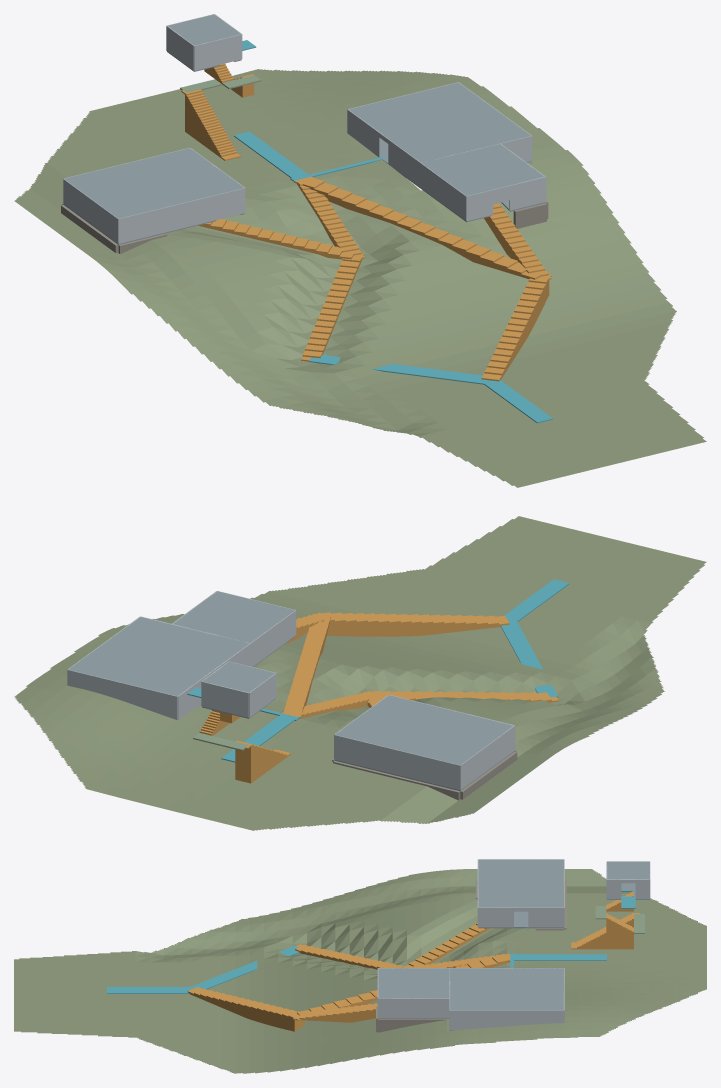
Rendered from benched-terrain.glb.
3 views of the same model, one above another, from view 1: azimuth 30°, elevation 25°; view 2: azimuth 150°, elevation 25°; view 3: azimuth 270°, elevation 25° (orthographic). The views are drawn at different scales.
Visible parts, largest first — view 1: Saved editor stair bench terrain WLD-04, Ceiling cap ruin, Ceiling cap hut, Ceiling cap store, Wall hut S, Opened stair shell Wall store S, Wall hut W, Ceiling cap cab, L02 support 0, Wall cab S, Wall store W, Wall ruin W (+2 smaller); view 2: Saved editor stair bench terrain WLD-04, Ceiling cap ruin, Ceiling cap hut, Ceiling cap store, Wall hut N, Wall ruin N, Wall hut W, Ceiling cap cab, Wall cab N, Wall store W, L02 support 0, Wall cab W (+3 smaller); view 3: Saved editor stair bench terrain WLD-04, Ceiling cap ruin, Ceiling cap hut, Ceiling cap store, Wall ruin E, Wall store E, Ceiling cap cab, Wall hut E, Wall hut E.001, L02 support 0.
Part boxes in pixels (box(x1,y1,x2,y2)): Saved editor stair bench terrain WLD-04: box(14, 69, 706, 487); Ceiling cap ruin: box(348, 82, 530, 162); Ceiling cap hut: box(64, 148, 243, 218); Ceiling cap store: box(421, 144, 544, 195); Wall hut S: box(118, 188, 245, 243); Opened stair shell Wall store S: box(466, 177, 545, 220); Wall hut W: box(63, 179, 118, 243); Ceiling cap cab: box(168, 14, 241, 45); L02 support 0: box(308, 354, 489, 384); Wall cab S: box(194, 34, 241, 70); Wall store W: box(420, 163, 466, 220); Wall ruin W: box(347, 109, 380, 157); Saved editor stair bench terrain WLD-04: box(14, 516, 706, 830); Ceiling cap ruin: box(68, 617, 249, 696); Ceiling cap hut: box(335, 695, 513, 765); Ceiling cap store: box(173, 591, 294, 643); Wall hut N: box(334, 735, 460, 790); Wall ruin N: box(67, 669, 177, 720); Wall hut W: box(460, 725, 515, 789); Ceiling cap cab: box(202, 661, 275, 692); Wall cab N: box(201, 681, 248, 717); Wall store W: box(250, 610, 296, 666); L02 support 0: box(500, 620, 558, 697); Wall cab W: box(249, 673, 276, 717); Saved editor stair bench terrain WLD-04: box(14, 869, 706, 1073); Ceiling cap ruin: box(449, 968, 563, 1010); Ceiling cap hut: box(478, 859, 563, 907); Ceiling cap store: box(378, 968, 449, 998); Wall ruin E: box(449, 1010, 563, 1029); Wall store E: box(378, 998, 449, 1017); Ceiling cap cab: box(607, 861, 649, 879); Wall hut E: box(528, 907, 563, 927); Wall hut E.001: box(478, 907, 513, 927); L02 support 0: box(191, 946, 299, 989).
Bounding box in the file's own units: 59 × 19.15 × 97.
